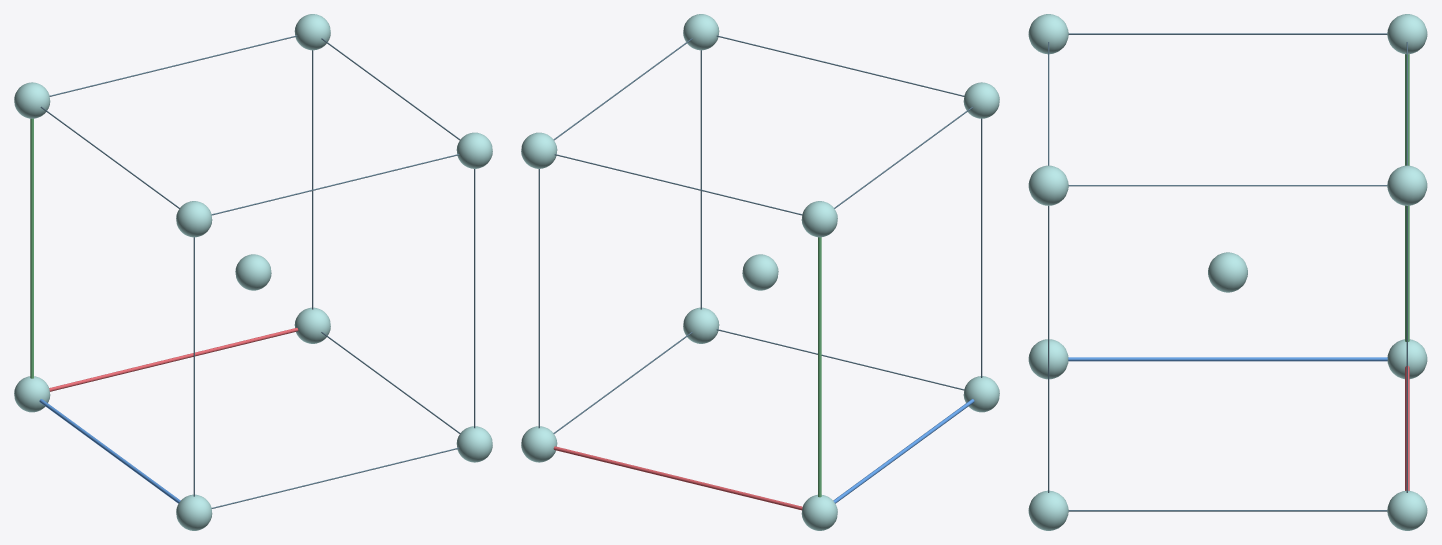
Rendered from nguyen-to-rb.glb.
3 renders of one model, left to right at view 1: azimuth 30°, elevation 25°; view 2: azimuth 150°, elevation 25°; view 3: azimuth 270°, elevation 25°, orthographic. The views are drawn at different scales.
Visible parts, largest first — view 1: Rb · Rb · 1 (×9), Ô mạng và các trục a, b, c; view 2: Rb · Rb · 1 (×9), Ô mạng và các trục a, b, c; view 3: Rb · Rb · 1 (×9), Ô mạng và các trục a, b, c.
Boxes of the visible parts, x1=… form: Rb · Rb · 1 (×9): x1=14, y1=14, x2=492, y2=530; Ô mạng và các trục a, b, c: x1=30, y1=35, x2=475, y2=508; Rb · Rb · 1 (×9): x1=521, y1=14, x2=999, y2=530; Ô mạng và các trục a, b, c: x1=538, y1=35, x2=982, y2=510; Rb · Rb · 1 (×9): x1=1028, y1=14, x2=1427, y2=530; Ô mạng và các trục a, b, c: x1=1048, y1=33, x2=1409, y2=511.
Size of the model in its own units: 6.34 by 6.34 by 6.34.
